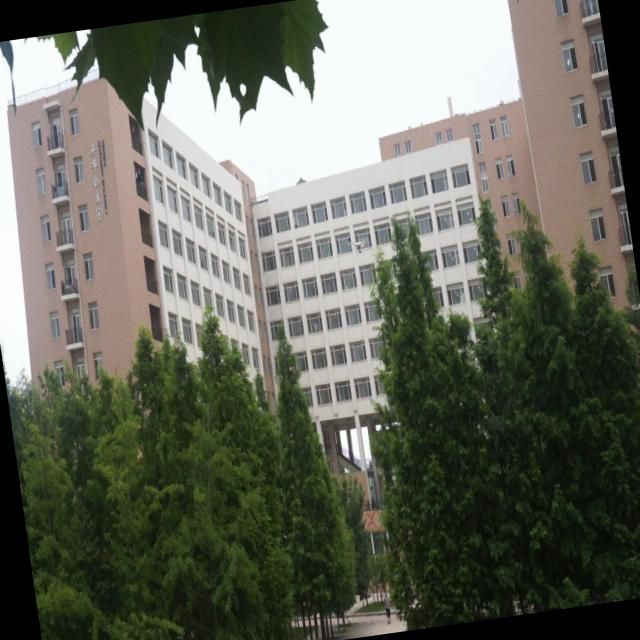drone: (350, 236, 369, 261)
